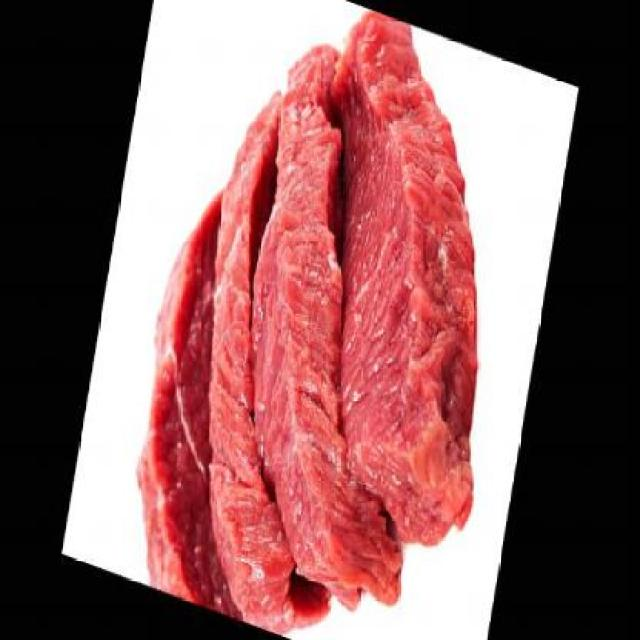beaf: (113, 0, 546, 638)
